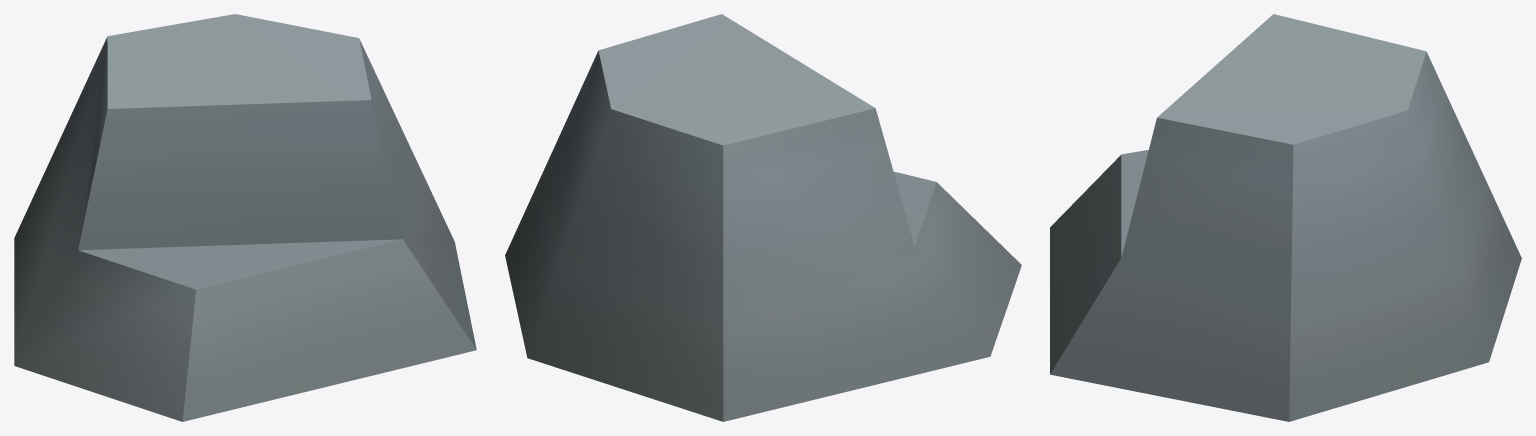
File: kay-pedra-b.gltf
The picture shows the model from 3 angles, left to right: view 1: azimuth 30°, elevation 25°; view 2: azimuth 150°, elevation 25°; view 3: azimuth 270°, elevation 25°; orthographic projection. The views are drawn at different scales.
Visible parts, largest first — view 1: rock_single_B; view 2: rock_single_B; view 3: rock_single_B.
Part boxes in pixels (x1,y1,x2,y2): rock_single_B: [14, 14, 476, 421]; rock_single_B: [505, 14, 1021, 421]; rock_single_B: [1050, 14, 1521, 421].
Size of the model in its own units: 1.43 by 0.6729 by 1.25.
Materials: 1 (1 with a texture image).
